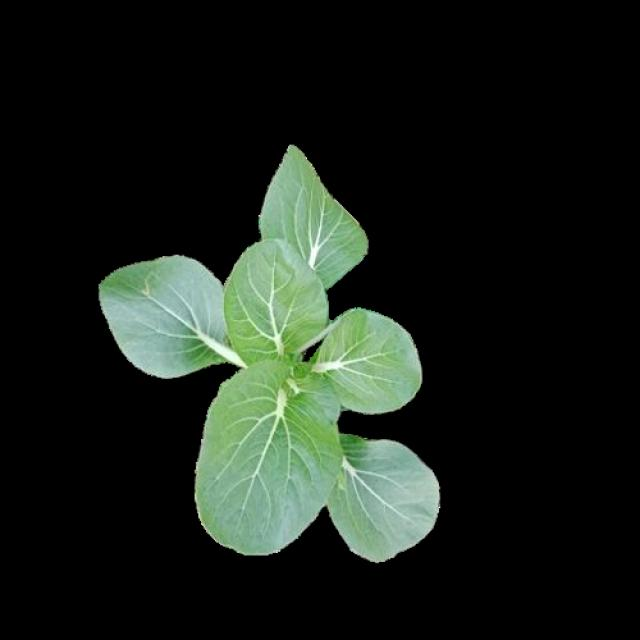healthy: (95, 142, 435, 561)
not-mature: (97, 145, 439, 563)
